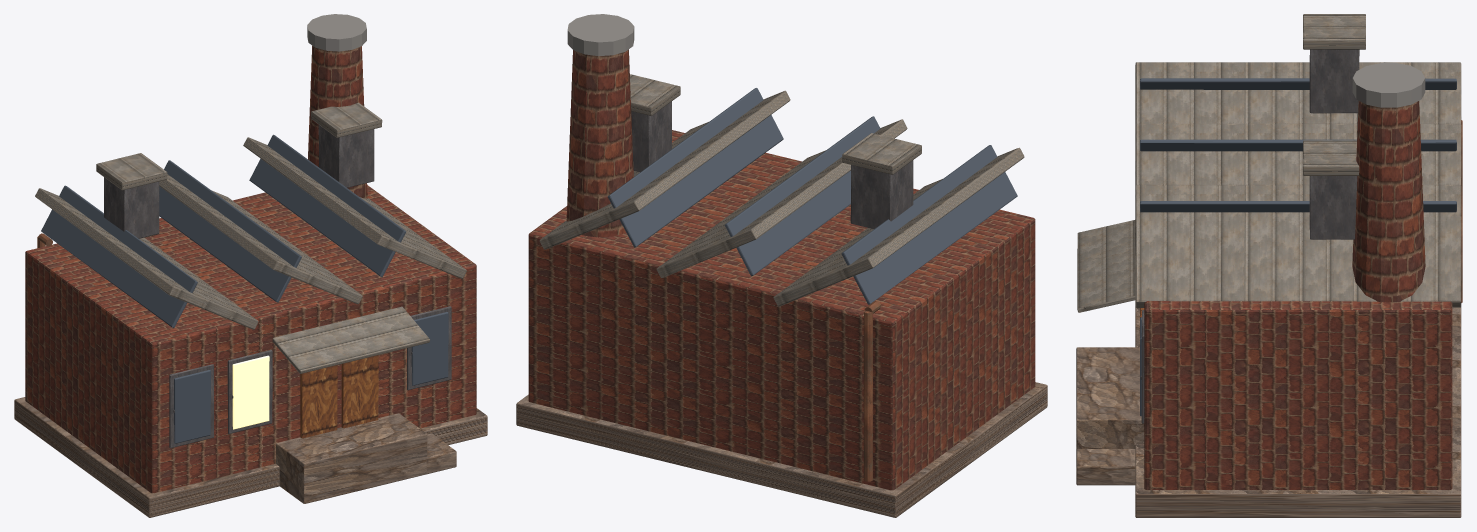
File: factory-staged_lod1.glb
3 views of the same model, side by side, from view 1: azimuth 30°, elevation 25°; view 2: azimuth 150°, elevation 25°; view 3: azimuth 270°, elevation 25° (orthographic). The views are drawn at different scales.
Visible parts, largest first — view 1: stage3_shell_merged, stage4_complete_merged, stage1_foundation_merged, wallsLower; view 2: stage3_shell_merged, stage4_complete_merged, wallsLower, stage1_foundation_merged; view 3: stage3_shell_merged, stage4_complete_merged, stage1_foundation_merged, wallsLower.
Part boxes in pixels (<box>): stage3_shell_merged: <box>25,14,476,445</box>; stage4_complete_merged: <box>37,102,451,448</box>; stage1_foundation_merged: <box>14,397,487,517</box>; wallsLower: <box>25,353,476,493</box>; stage3_shell_merged: <box>528,14,1035,436</box>; stage4_complete_merged: <box>607,74,1017,481</box>; wallsLower: <box>528,333,1035,490</box>; stage1_foundation_merged: <box>516,382,1047,517</box>; stage3_shell_merged: <box>1135,62,1461,432</box>; stage4_complete_merged: <box>1077,14,1462,423</box>; stage1_foundation_merged: <box>1076,306,1461,517</box>; wallsLower: <box>1144,432,1452,489</box>.
Bounding box in the file's own units: 5.2 × 5.04 × 4.26.
11 materials, 8 textured.
